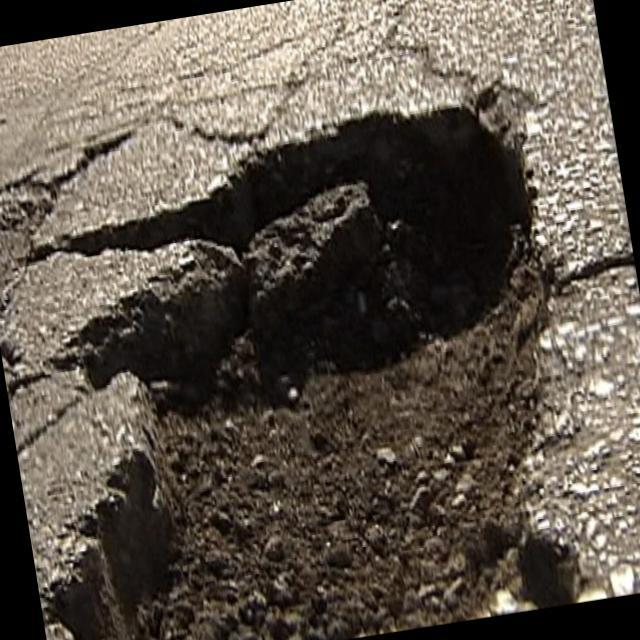Pothole: (22, 68, 615, 640)
